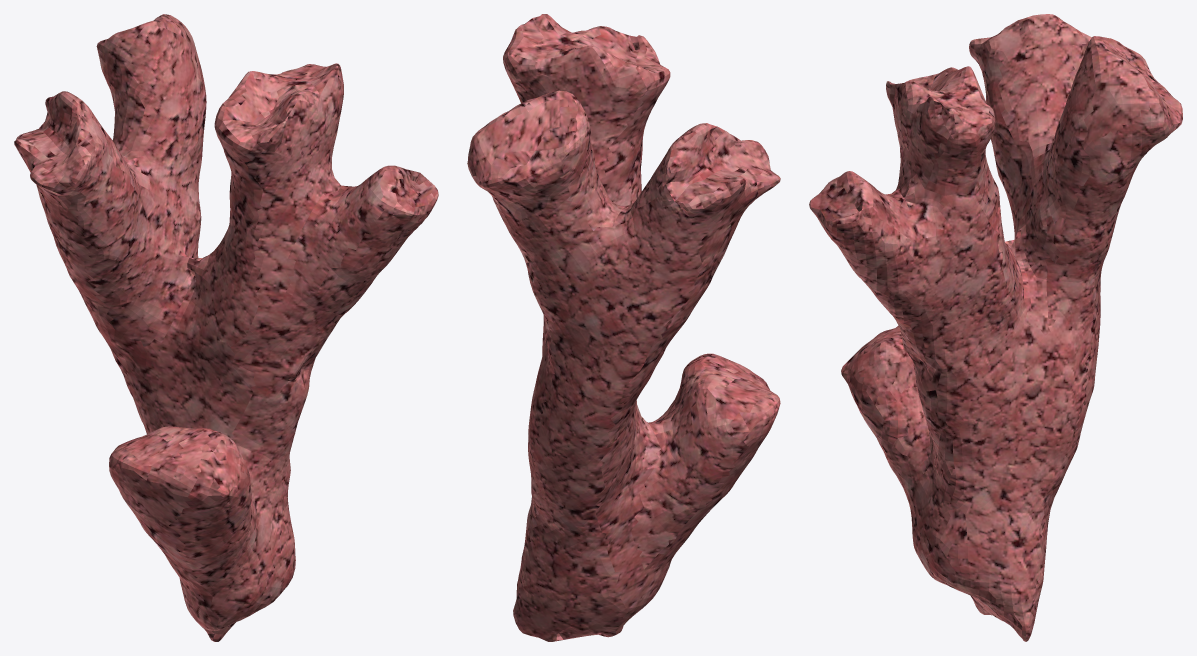
File: coral tree red.glb
3 views of the same model, side by side, from view 1: azimuth 30°, elevation 25°; view 2: azimuth 150°, elevation 25°; view 3: azimuth 270°, elevation 25° (orthographic). The views are drawn at different scales.
Visible parts, largest first — view 1: coral_9_watertight_small; view 2: coral_9_watertight_small; view 3: coral_9_watertight_small.
Part boxes in pixels (x1,y1,x2,y2): coral_9_watertight_small: (14,14,438,641); coral_9_watertight_small: (467,14,780,641); coral_9_watertight_small: (809,14,1182,641).
Size of the model in its own units: 49.05 by 84.97 by 50.45.
1 material, 1 textured.
